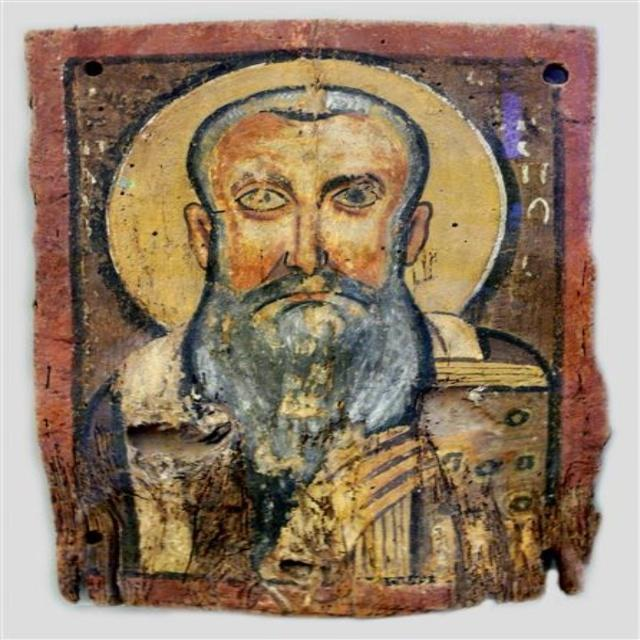aura: (101, 46, 521, 336)
book: (418, 358, 548, 584)
christ_hand: (258, 426, 448, 590)
saint: (191, 83, 431, 592)
